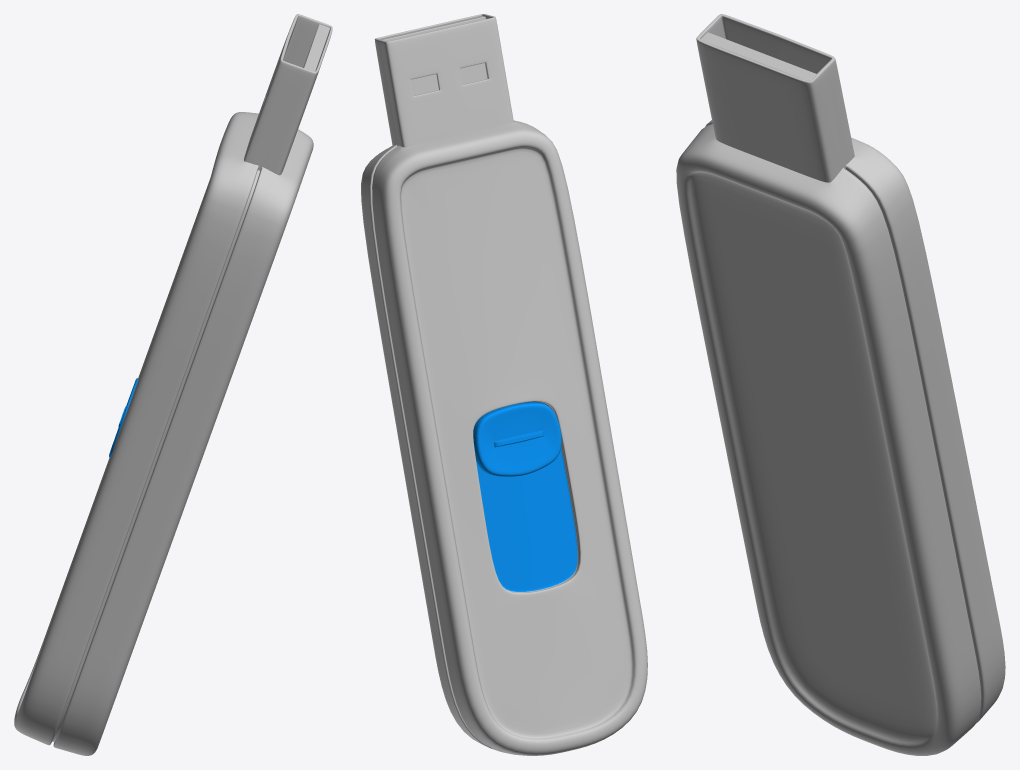
File: flash.fbx
The picture shows the model from 3 angles, left to right: view 1: azimuth 30°, elevation 25°; view 2: azimuth 150°, elevation 25°; view 3: azimuth 270°, elevation 25°; orthographic projection. The views are drawn at different scales.
Visible parts, largest first — view 1: Cube, Cube.001, Cube.002; view 2: Cube, Cube.001, Circle, Cube.002; view 3: Cube, Cube.001, Cube.002.
Boxes of the visible parts, box(x1,y1,x2,y2) form: Cube: box(14, 112, 313, 755); Cube.001: box(244, 14, 332, 175); Cube.002: box(303, 24, 330, 71); Cube: box(361, 120, 647, 755); Cube.001: box(374, 14, 513, 147); Circle: box(473, 402, 561, 476); Cube.002: box(379, 15, 487, 95); Cube: box(676, 120, 1005, 755); Cube.001: box(696, 14, 854, 182); Cube.002: box(700, 32, 816, 80).
Size of the model in its own units: 181 by 406 by 152.
